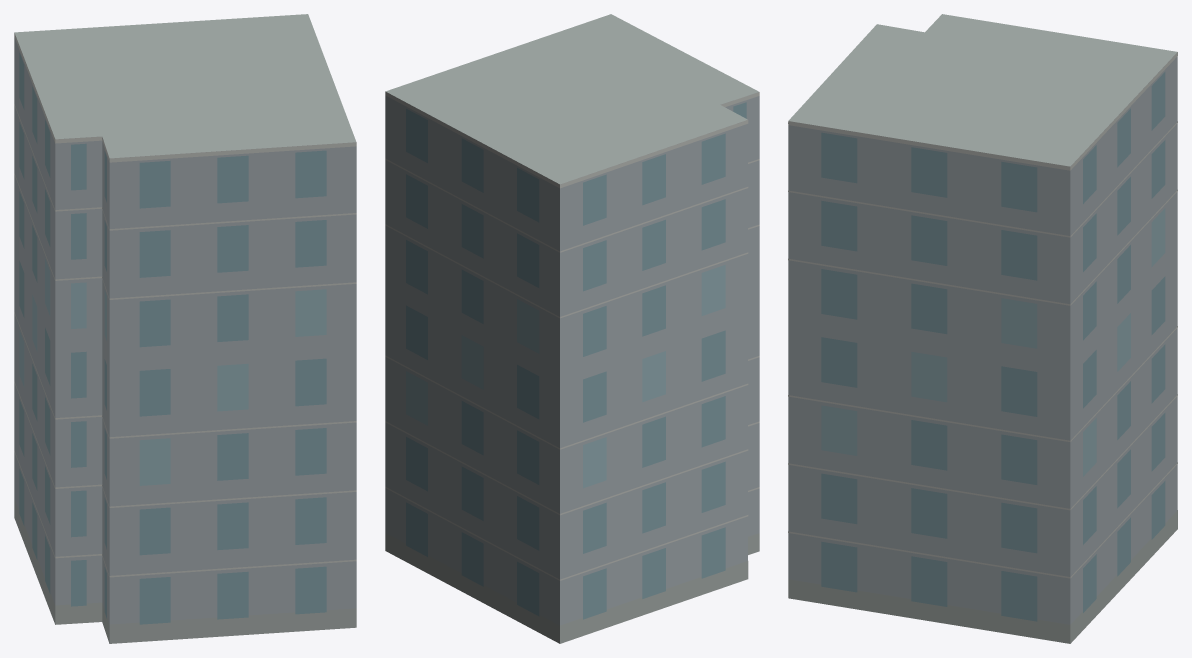
File: survey-upis-32667129.glb
The picture shows the model from 3 angles, left to right: view 1: azimuth 30°, elevation 25°; view 2: azimuth 150°, elevation 25°; view 3: azimuth 270°, elevation 25°; orthographic projection. The views are drawn at different scales.
Parts seen in each view (by area): view 1: survey-upis-32667129.tmp; view 2: survey-upis-32667129.tmp; view 3: survey-upis-32667129.tmp.
Part boxes in pixels (box(x1,y1,x2,y2)): survey-upis-32667129.tmp: box(14, 14, 356, 643); survey-upis-32667129.tmp: box(385, 14, 759, 643); survey-upis-32667129.tmp: box(788, 14, 1177, 643).
Bounding box in the file's own units: 19.43 × 28.3 × 20.95.
